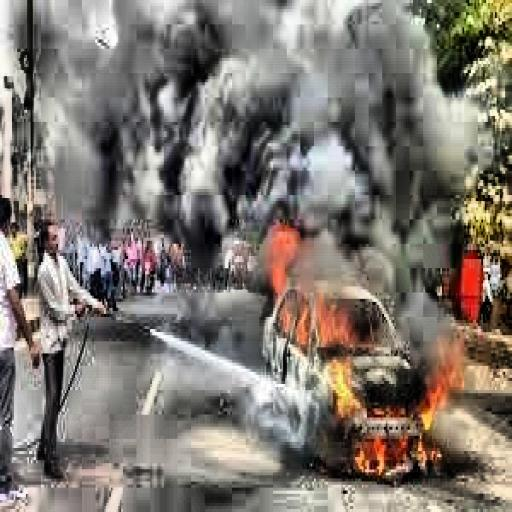fire: (258, 234, 472, 494)
